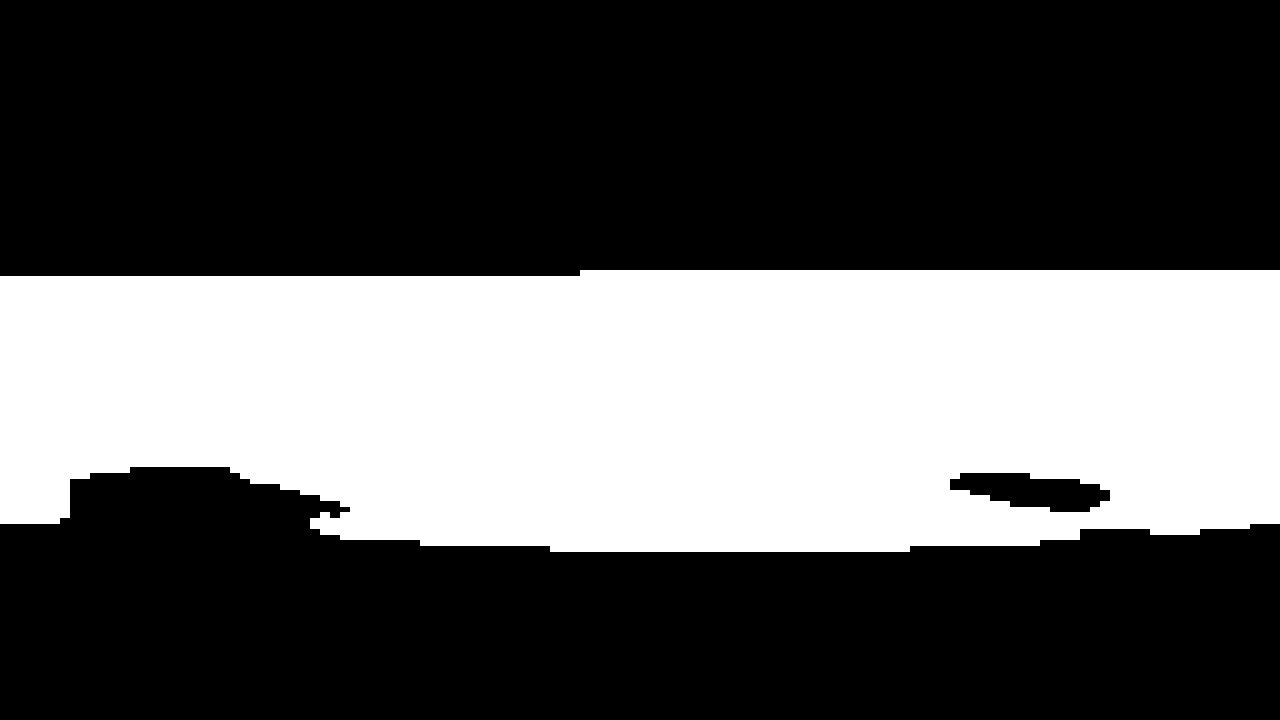Turbine: (9, 259, 1271, 554)
